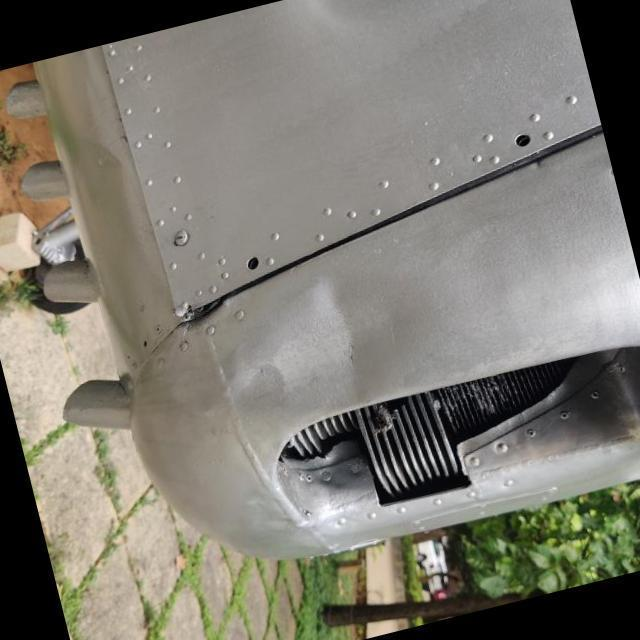Dent: (201, 227, 504, 444)
Fastener Damage: (490, 110, 549, 167), (226, 234, 275, 282)
